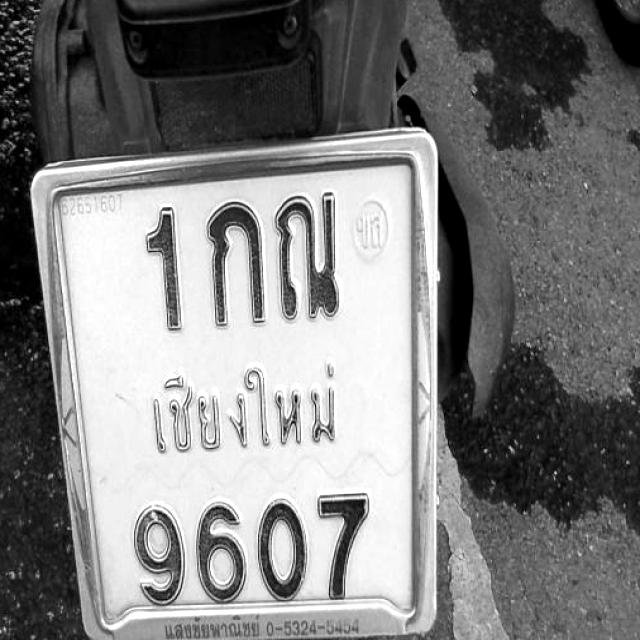letters: (132, 198, 200, 339), (276, 191, 344, 329), (204, 193, 271, 333), (116, 499, 194, 608), (312, 494, 376, 601), (251, 496, 313, 605), (194, 497, 254, 604)
license-plate: (42, 142, 426, 635)
province: (125, 364, 378, 456)
